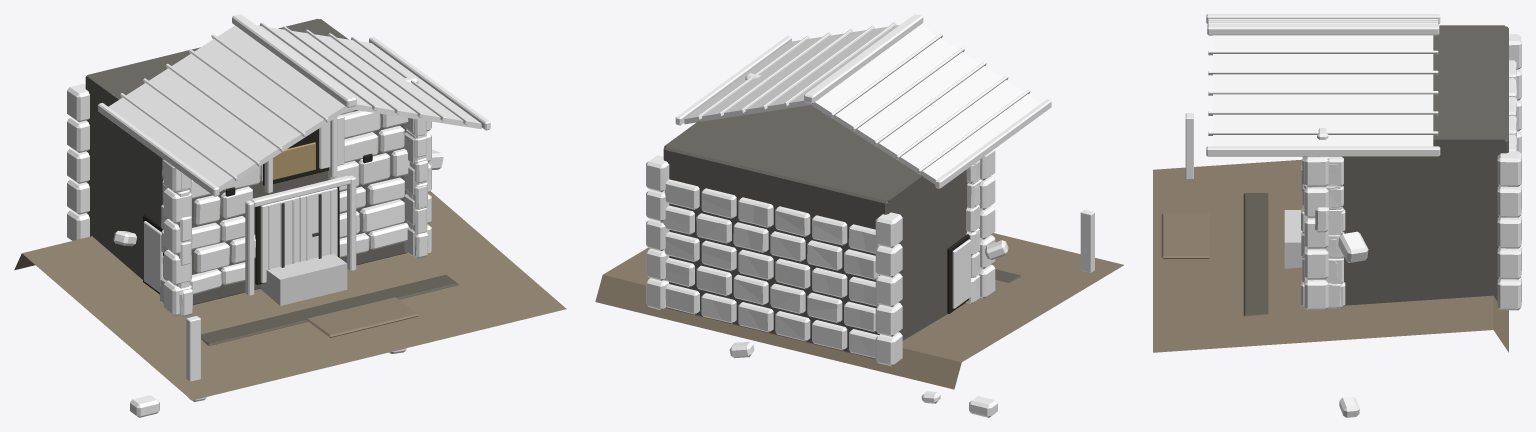
Rendered from barrosan_agricultural_barn_gold_asset.glb.
3 renders of one model, left to right at view 1: azimuth 30°, elevation 25°; view 2: azimuth 150°, elevation 25°; view 3: azimuth 270°, elevation 25°, orthographic. The views are drawn at different scales.
Parts seen in each view (by area): view 1: V0341_Neutral_Sloped_Barn_Ground_Patch, V0341_Roof_Principal_Slope_Left, V0341_LOD1_SimpleBarnProxy, V0341_Roof_Principal_Slope_Right, V0341_Barn_Recessed_Masonry_Core, V0341_Dark_Damp_Barn_Contact_Course, Cube, V0341_Lower_Door_Leaf_-1.18, V0341_Short_Worn_Entrance_Soil, V0341_Lower_Door_Leaf_1.18, V0341_Coherent_Ridge_Cap, V0341_Functional_Eave_Board (+42 smaller); view 2: V0341_Barn_Recessed_Masonry_Core, V0341_Neutral_Sloped_Barn_Ground_Patch, V0341_Roof_Principal_Slope_Left, V0341_LOD1_SimpleBarnProxy, V0341_Roof_Principal_Slope_Right, V0341_Coherent_Ridge_Cap, V0341_Functional_Eave_Board, V0341_Side_Service_Door, V0341_Functional_Eave_Board.001, V0341_Worker_1p75m_Scale_Reference, V0341_Corner_Quoin_Rear_-1_4, V0341_Corner_Quoin_Rear_-1_0 (+34 smaller); view 3: V0341_Barn_Recessed_Masonry_Core, V0341_Neutral_Sloped_Barn_Ground_Patch, V0341_Roof_Principal_Slope_Right, V0341_LOD1_SimpleBarnProxy, V0341_Dark_Damp_Barn_Contact_Course, V0341_Coherent_Ridge_Cap, V0341_Functional_Eave_Board.001, V0341_Short_Worn_Entrance_Soil, V0341_Functional_Eave_Board, V0341_Layered_Slate_1_1, Cube, V0341_Layered_Slate_1_0 (+22 smaller).
Part boxes in pixels (x1,y1,x2,y2): V0341_Neutral_Sloped_Barn_Ground_Patch: [14, 191, 566, 400]; V0341_Roof_Principal_Slope_Left: [108, 25, 349, 191]; V0341_LOD1_SimpleBarnProxy: [86, 19, 348, 294]; V0341_Roof_Principal_Slope_Right: [257, 25, 481, 129]; V0341_Barn_Recessed_Masonry_Core: [85, 18, 407, 304]; V0341_Dark_Damp_Barn_Contact_Course: [201, 274, 458, 345]; Cube: [260, 253, 347, 305]; V0341_Lower_Door_Leaf_-1.18: [260, 196, 299, 283]; V0341_Short_Worn_Entrance_Soil: [306, 297, 418, 337]; V0341_Lower_Door_Leaf_1.18: [299, 187, 337, 261]; V0341_Coherent_Ridge_Cap: [232, 14, 356, 107]; V0341_Functional_Eave_Board: [98, 103, 219, 196]; V0341_Barn_Recessed_Masonry_Core: [663, 105, 962, 359]; V0341_Neutral_Sloped_Barn_Ground_Patch: [595, 233, 1123, 389]; V0341_Roof_Principal_Slope_Left: [811, 25, 1041, 184]; V0341_LOD1_SimpleBarnProxy: [664, 105, 967, 336]; V0341_Roof_Principal_Slope_Right: [684, 25, 899, 124]; V0341_Coherent_Ridge_Cap: [804, 14, 923, 103]; V0341_Functional_Eave_Board: [935, 99, 1051, 188]; V0341_Side_Service_Door: [952, 239, 970, 308]; V0341_Functional_Eave_Board.001: [675, 35, 791, 125]; V0341_Worker_1p75m_Scale_Reference: [1080, 209, 1094, 272]; V0341_Corner_Quoin_Rear_-1_4: [875, 212, 902, 248]; V0341_Corner_Quoin_Rear_-1_0: [875, 332, 902, 366]; V0341_Barn_Recessed_Masonry_Core: [1342, 26, 1508, 305]; V0341_Neutral_Sloped_Barn_Ground_Patch: [1153, 159, 1508, 352]; V0341_Roof_Principal_Slope_Right: [1213, 35, 1433, 146]; V0341_LOD1_SimpleBarnProxy: [1343, 25, 1504, 302]; V0341_Dark_Damp_Barn_Contact_Course: [1243, 193, 1268, 316]; V0341_Coherent_Ridge_Cap: [1207, 23, 1439, 35]; V0341_Functional_Eave_Board.001: [1206, 146, 1440, 156]; V0341_Short_Worn_Entrance_Soil: [1161, 213, 1209, 258]; V0341_Functional_Eave_Board: [1206, 14, 1440, 24]; V0341_Layered_Slate_1_1: [1208, 70, 1438, 75]; Cube: [1284, 210, 1302, 268]; V0341_Layered_Slate_1_0: [1208, 50, 1438, 55].
Size of what is drawn, in the model's own units: 11.2 by 9.52 by 9.54.
